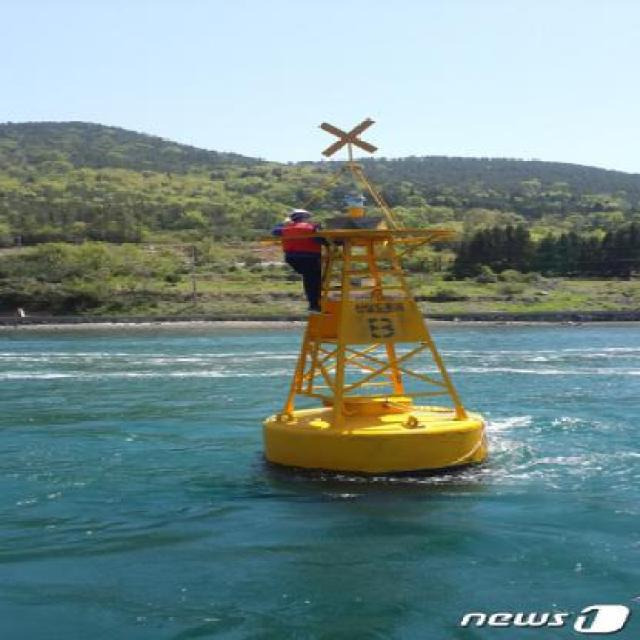a: (229, 116, 507, 471)
